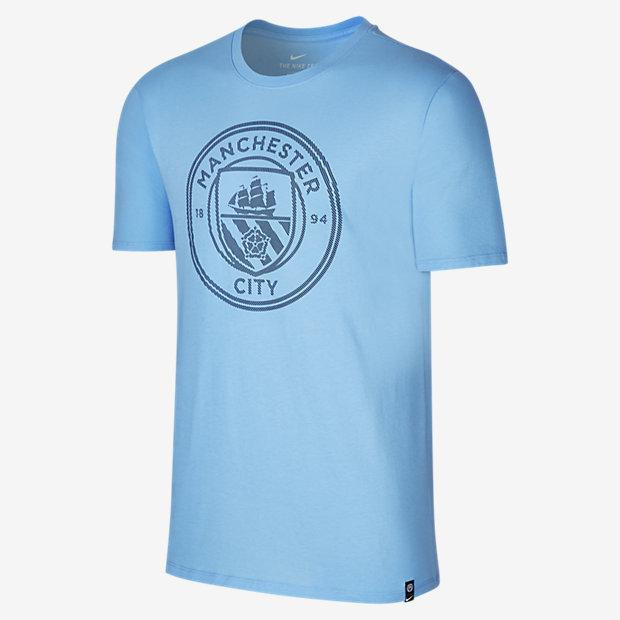teeshirt: (82, 18, 538, 608)
